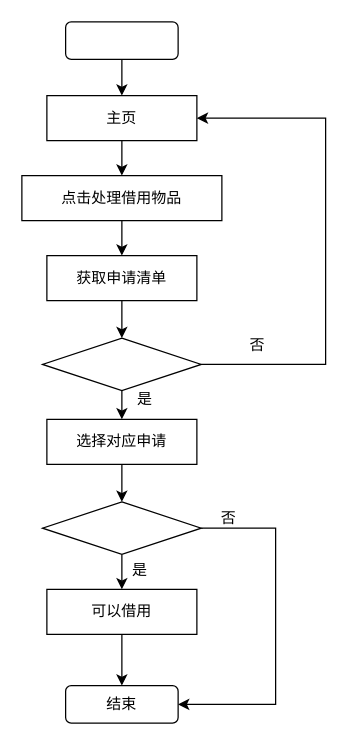
Some shapes in this 358 by 745 pixel diagram are drawn without their labels. The centre of each missing label's shape, as x and y in pixels:
开始: the point at 121,40
是否处理: the point at 121,364
是否批准: the point at 121,527
